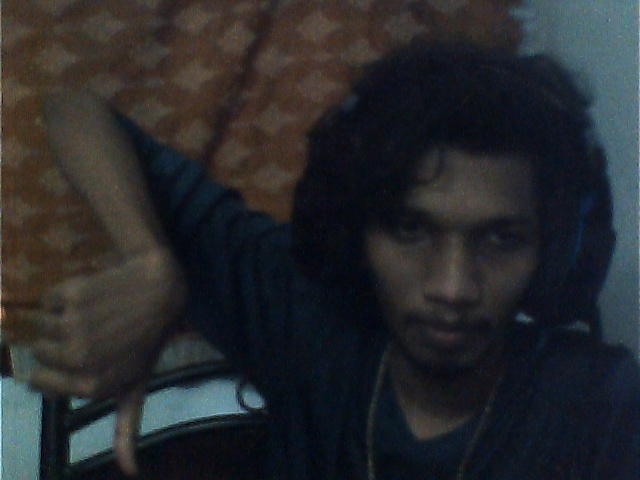ThumbsDown: (34, 258, 181, 477)
